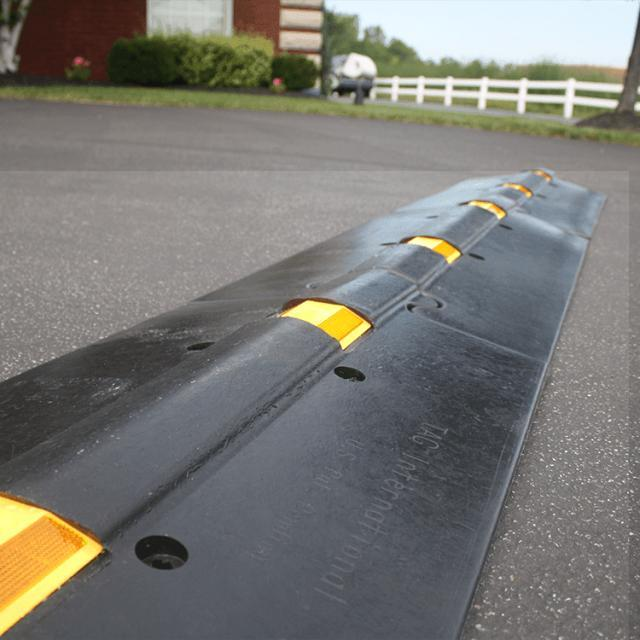speed-bump: (0, 171, 629, 640)
